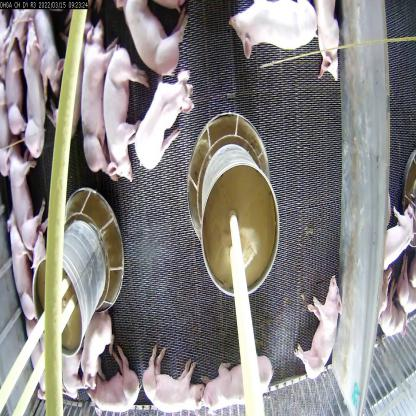Pig: (90, 40, 138, 190), (233, 0, 320, 80), (117, 0, 189, 85), (0, 150, 50, 270), (134, 61, 186, 169), (78, 5, 110, 171), (292, 281, 342, 385), (75, 348, 149, 415), (140, 340, 204, 415), (24, 28, 52, 172), (207, 356, 269, 416), (314, 0, 350, 79), (77, 294, 110, 372)
